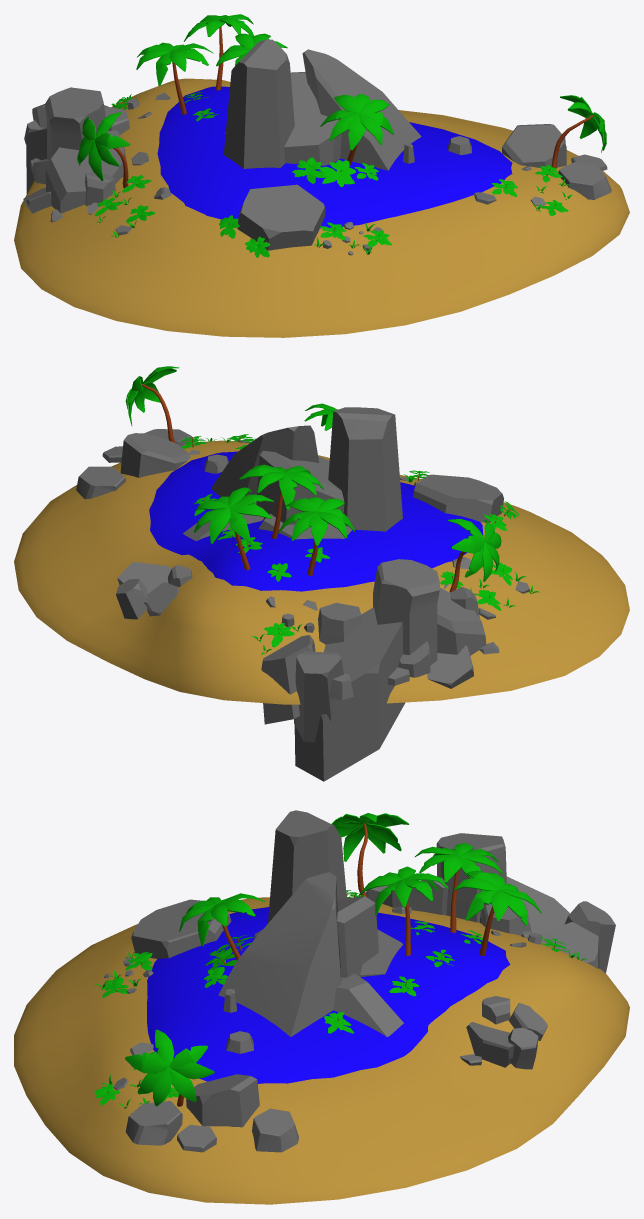
Rendered from island_sand_1.fbx.
3 views of the same model, one above another, from view 1: azimuth 30°, elevation 25°; view 2: azimuth 150°, elevation 25°; view 3: azimuth 270°, elevation 25° (orthographic). The views are drawn at different scales.
Parts seen in each view (by area): view 1: pSphere5; view 2: pSphere5; view 3: pSphere5.
Boxes of the visible parts, left/top/right/bottom form: pSphere5: left=14, top=14, right=629, bottom=337; pSphere5: left=14, top=366, right=629, bottom=781; pSphere5: left=14, top=810, right=629, bottom=1204.
Size of the model in its own units: 10262 by 4321 by 8885.
Materials: 1 (1 with a texture image).
